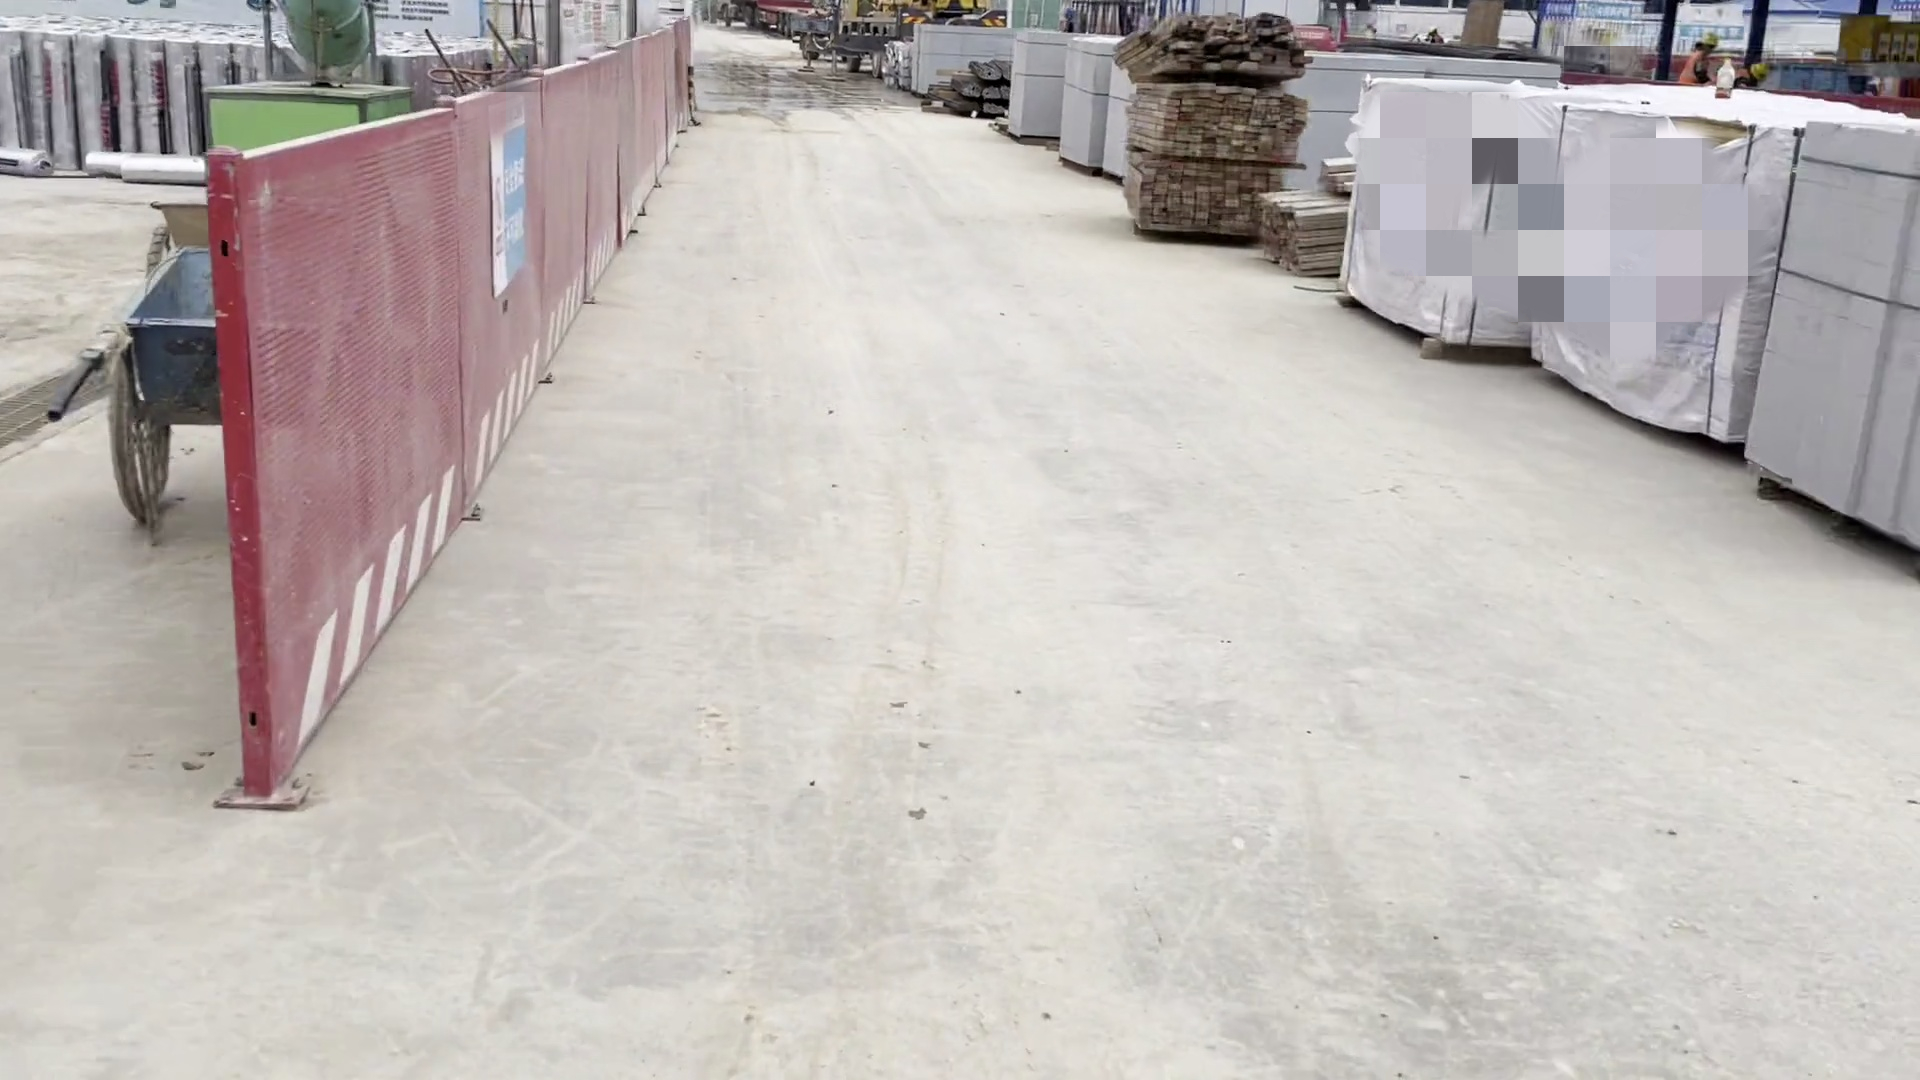brick: (1015, 25, 1116, 166)
fence: (196, 20, 725, 829)
wood: (1116, 15, 1317, 253)
